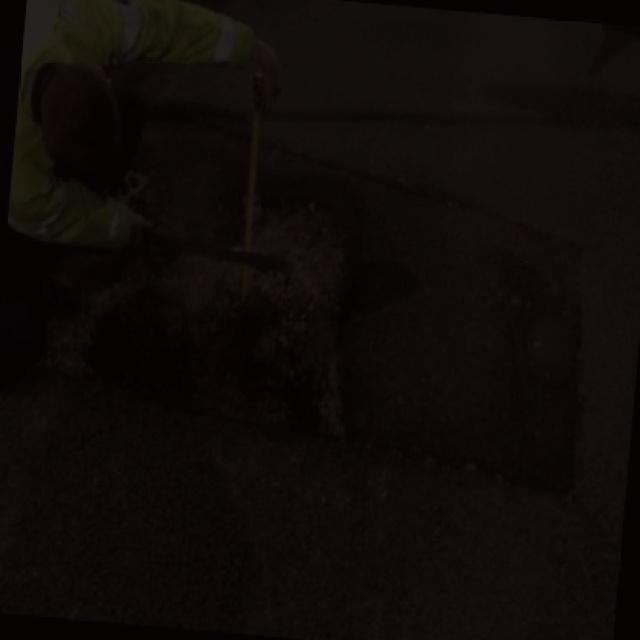Pothole: (46, 131, 590, 453)
